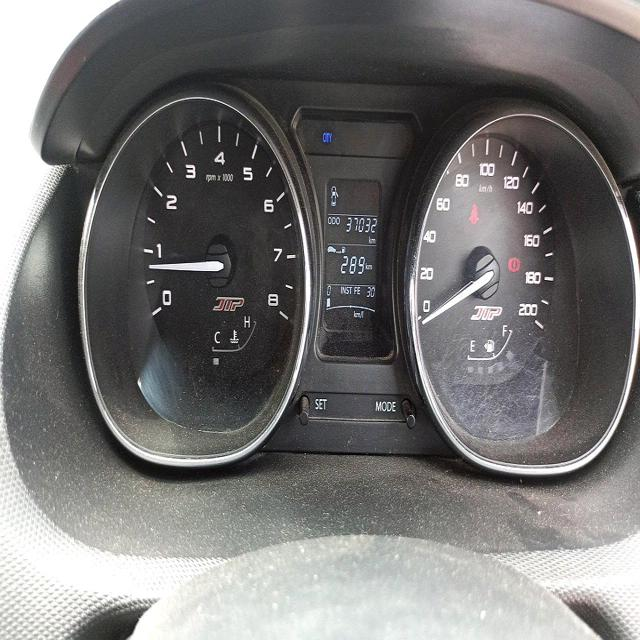odometer: (343, 214, 377, 236)
